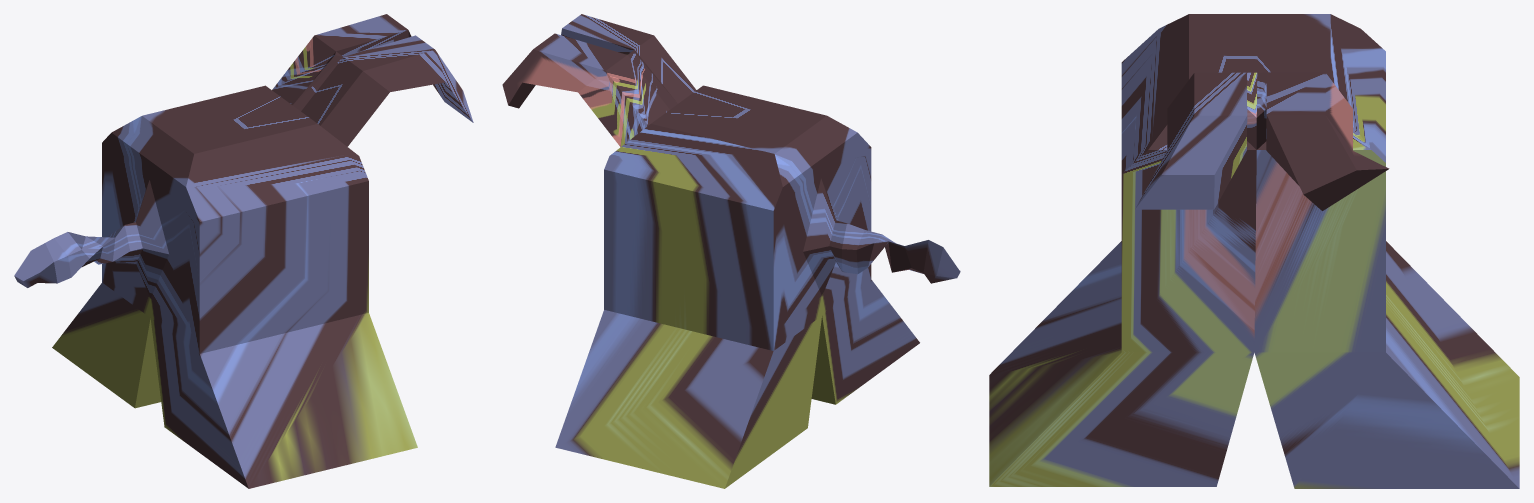
Rendered from bunny.glb.
The picture shows the model from 3 angles, left to right: view 1: azimuth 30°, elevation 25°; view 2: azimuth 150°, elevation 25°; view 3: azimuth 270°, elevation 25°; orthographic projection. The views are drawn at different scales.
Parts seen in each view (by area): view 1: Cube; view 2: Cube; view 3: Cube.
Part boxes in pixels (x1,y1,x2,y2): Cube: (14,14,473,488); Cube: (502,14,960,488); Cube: (989,14,1519,488).
Bounding box in the file's own units: 5.04 × 3.64 × 4.01.
Materials: 1 (1 with a texture image).
